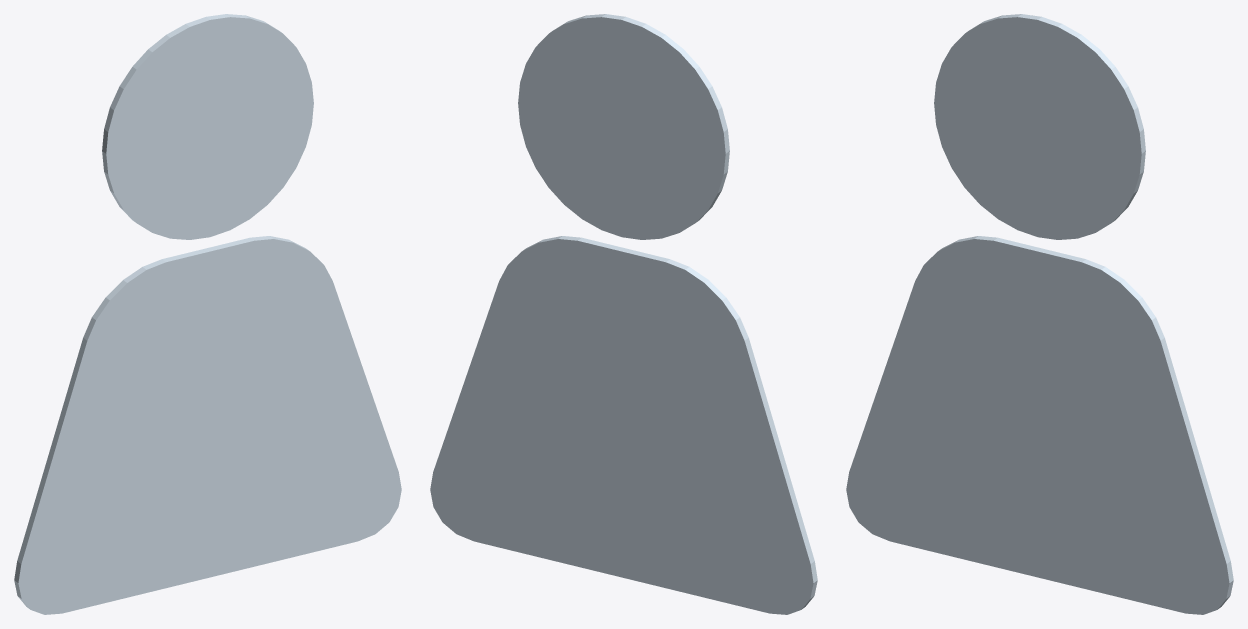
The model's file is User_3D_Icon_02.fbx.
The picture shows the model from 3 angles, left to right: view 1: azimuth 30°, elevation 25°; view 2: azimuth 150°, elevation 25°; view 3: azimuth 330°, elevation 25°; orthographic projection.
Parts seen in each view (by area): view 1: User_3D_Icon_02; view 2: User_3D_Icon_02; view 3: User_3D_Icon_02.
Part boxes in pixels (bbox=[...]): User_3D_Icon_02: bbox=[14, 14, 401, 614]; User_3D_Icon_02: bbox=[430, 14, 817, 614]; User_3D_Icon_02: bbox=[846, 14, 1233, 614].
Bounding box in the file's own units: 103 × 143 × 1.96.
